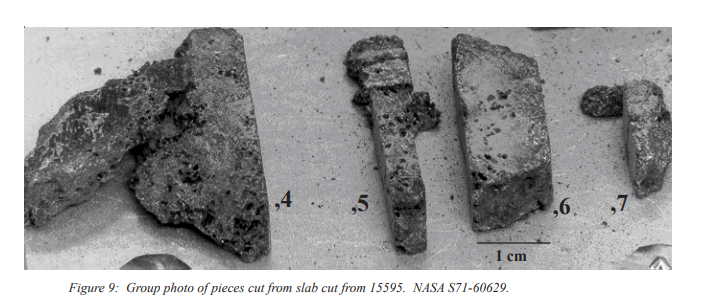Basalt: (51, 26, 276, 268), (443, 19, 546, 247), (342, 51, 449, 270), (342, 20, 424, 270), (575, 62, 691, 200)
